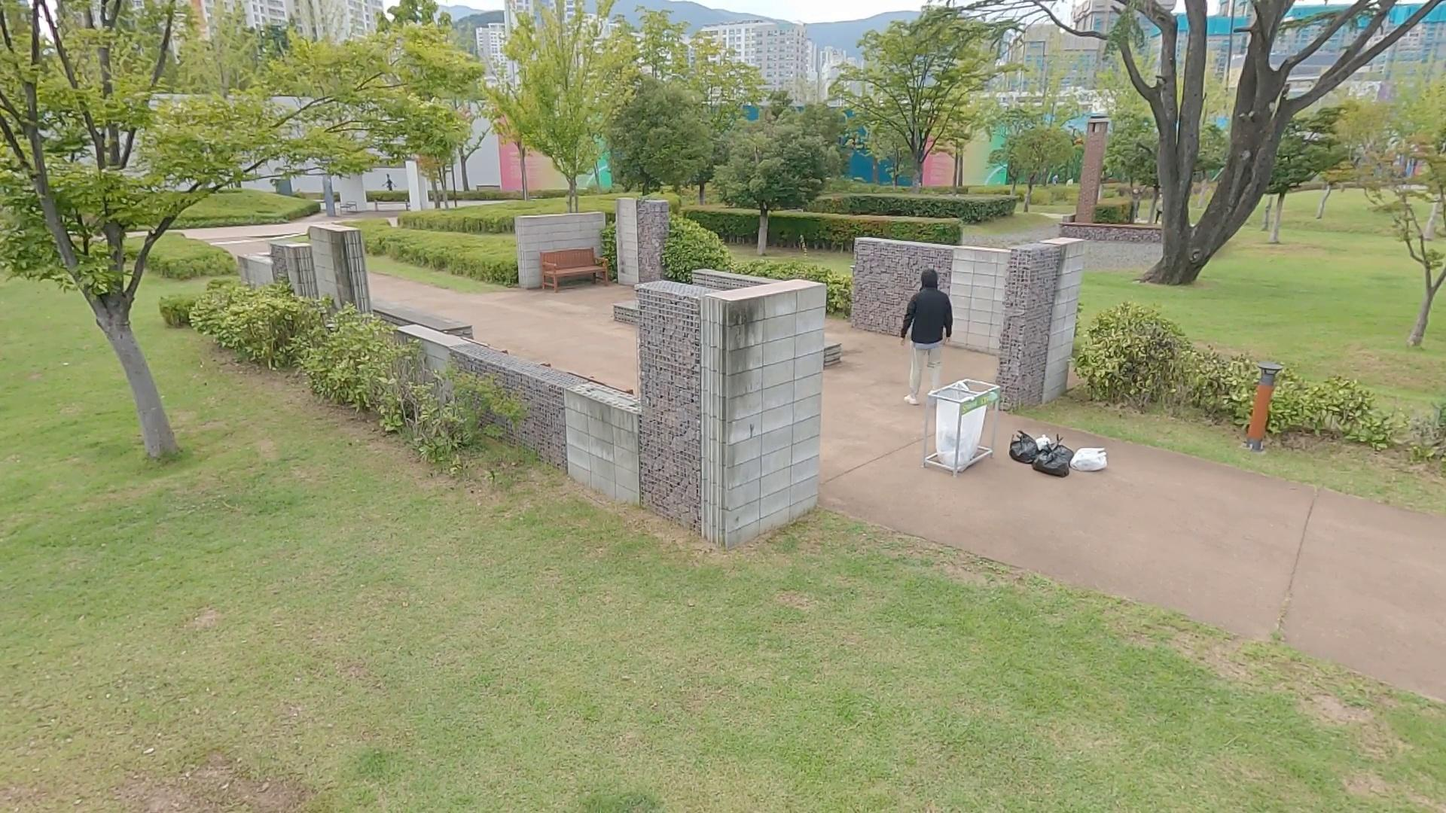person: (898, 270, 953, 407)
trash: (1035, 445, 1069, 477), (1070, 446, 1109, 473), (1009, 430, 1038, 464), (1049, 432, 1073, 461), (1034, 433, 1052, 453)
